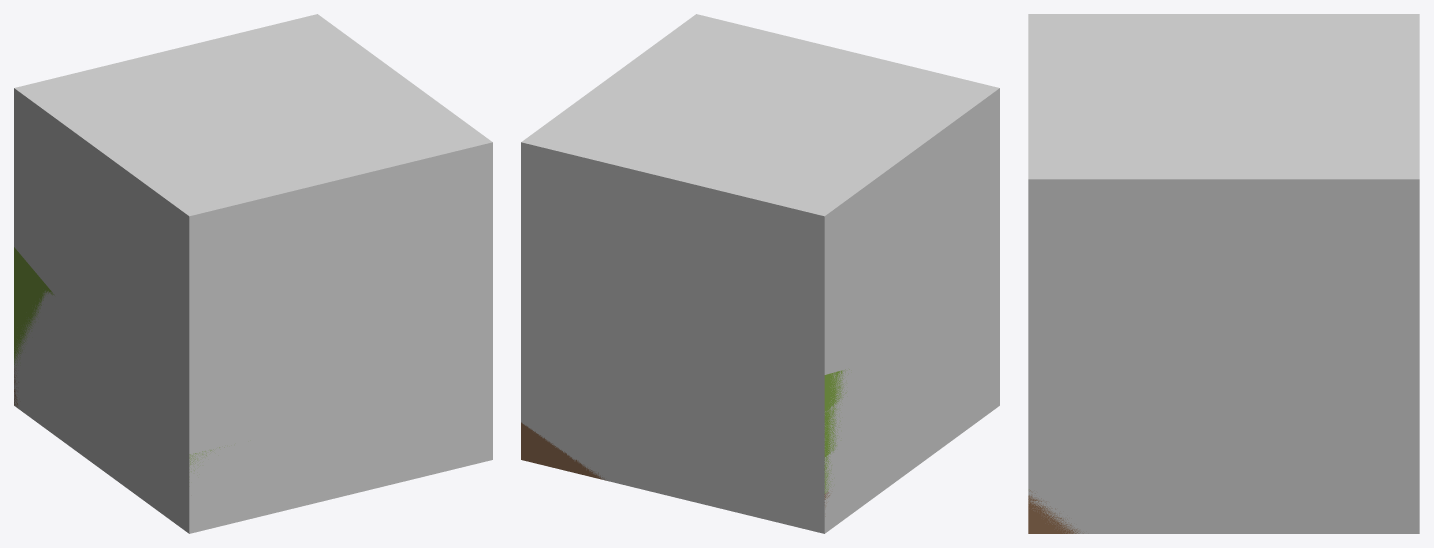
The model's file is HillCorner2.gltf.
3 renders of one model, left to right at view 1: azimuth 30°, elevation 25°; view 2: azimuth 150°, elevation 25°; view 3: azimuth 270°, elevation 25°, orthographic. The views are drawn at different scales.
Visible parts, largest first — view 1: COL, hill-corner_Cube.009; view 2: COL, hill-corner_Cube.009; view 3: COL, hill-corner_Cube.009.
Part boxes in pixels (x1=…): COL: x1=14, y1=14, x2=492, y2=533; hill-corner_Cube.009: x1=14, y1=247, x2=224, y2=471; COL: x1=521, y1=14, x2=999, y2=533; hill-corner_Cube.009: x1=521, y1=369, x2=849, y2=516; COL: x1=1028, y1=14, x2=1419, y2=533; hill-corner_Cube.009: x1=1028, y1=489, x2=1083, y2=533.
Size of the model in its own units: 8 by 8 by 8.
Materials: 1 (1 with a texture image).
